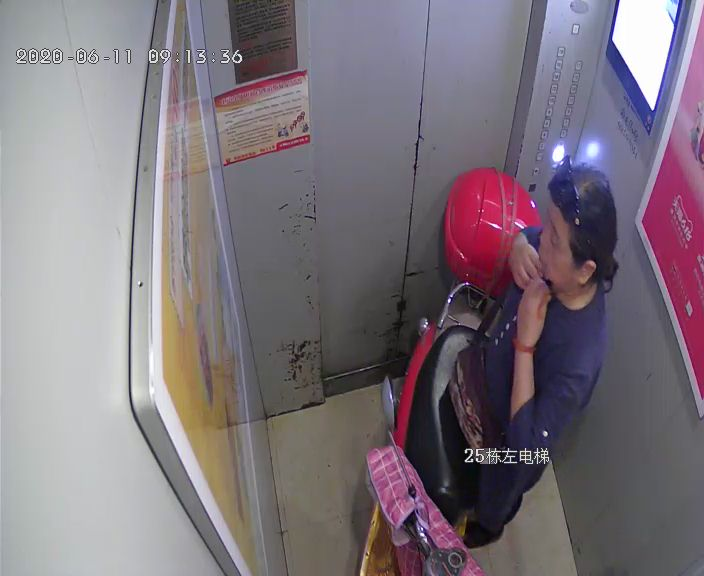Electric-bicycle: (403, 178, 535, 572)
